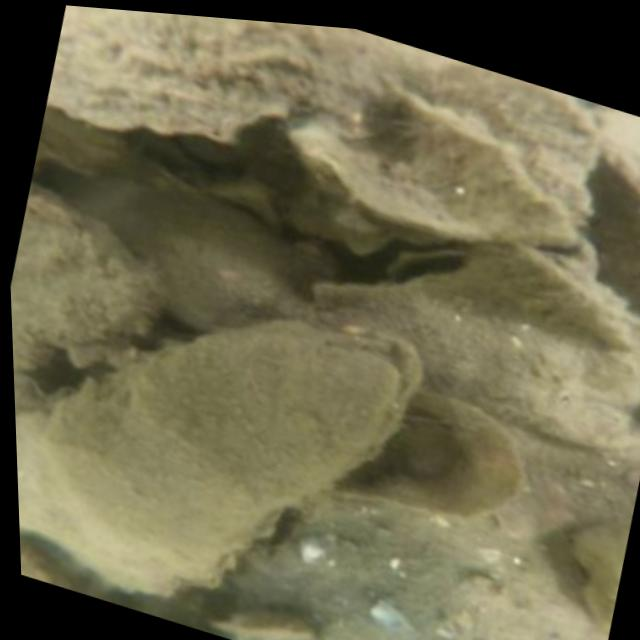Oyster-Closed: (56, 314, 416, 579)
Oyster-Indeterminate: (311, 246, 640, 449), (49, 7, 408, 139), (216, 515, 561, 640), (71, 171, 293, 327), (382, 45, 593, 202), (12, 187, 161, 368), (463, 237, 637, 351)
